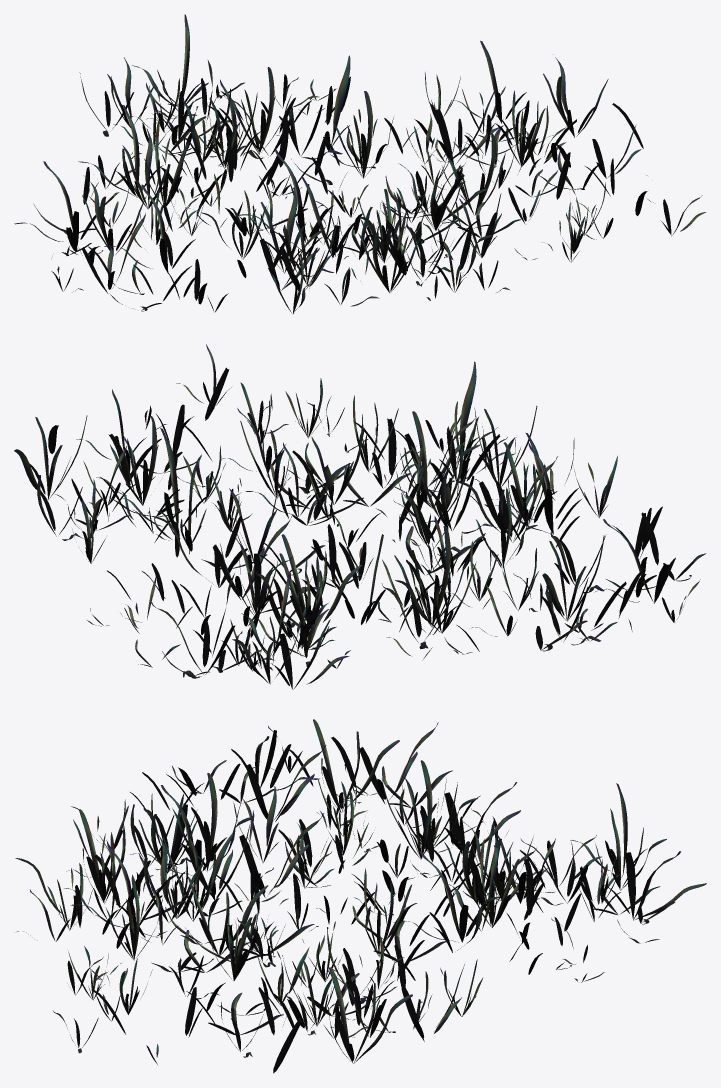
File: grass2.fbx
The picture shows the model from 3 angles, top to bottom: view 1: azimuth 30°, elevation 25°; view 2: azimuth 150°, elevation 25°; view 3: azimuth 270°, elevation 25°; orthographic projection. The views are drawn at different scales.
Visible parts, largest first — view 1: GS Dryland grass small; view 2: GS Dryland grass small; view 3: GS Dryland grass small.
Boxes of the visible parts, bbox=[...] form: GS Dryland grass small: bbox=[14, 14, 706, 313]; GS Dryland grass small: bbox=[14, 344, 706, 689]; GS Dryland grass small: bbox=[15, 719, 706, 1073].
Bounding box in the file's own units: 36.99 × 4.87 × 34.15.
